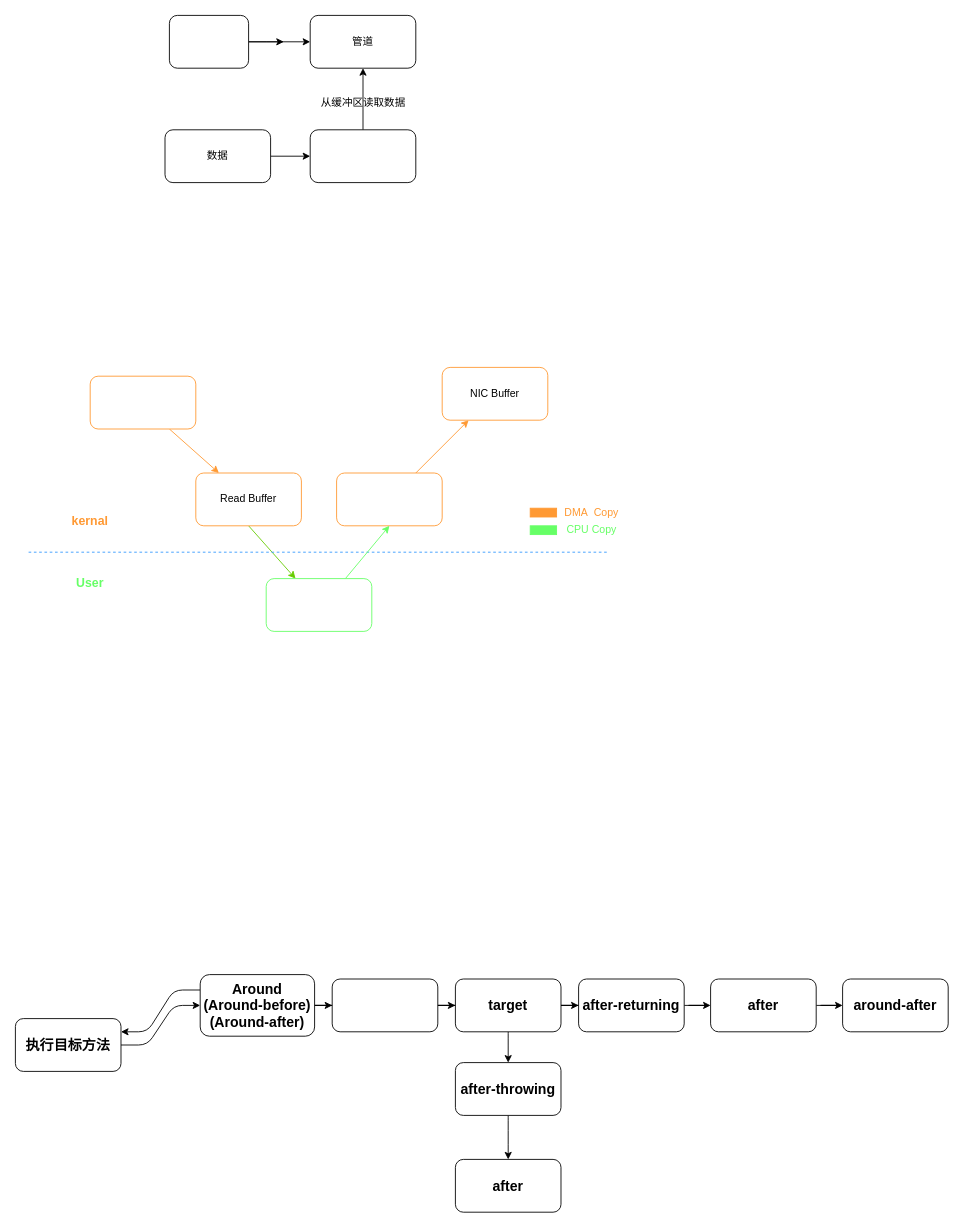
The diagram is 964 pixels wide and 1228 high, and some of its shapes have lost their labels. The box of each missing label's shape, as (x1, y1, x2, y2) in pixels:
Application Buffer: (265, 578, 372, 631)
before: (331, 978, 438, 1032)
ByteBuffer: (309, 129, 416, 183)
Disk: (89, 375, 196, 429)
Socket Buffer: (336, 472, 442, 526)
输出流: (169, 15, 249, 68)
